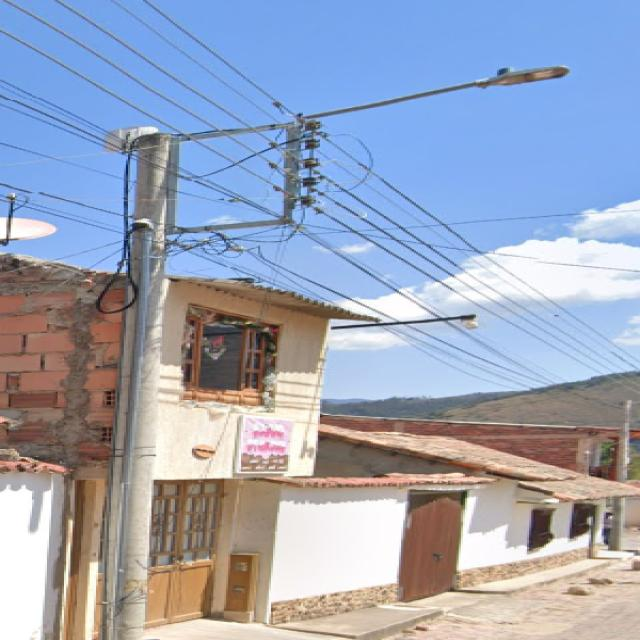Fachada: (243, 425, 636, 623), (143, 279, 346, 626), (2, 256, 124, 639), (322, 415, 619, 479)
Poste: (102, 67, 570, 639), (617, 400, 631, 482), (610, 498, 623, 550)
